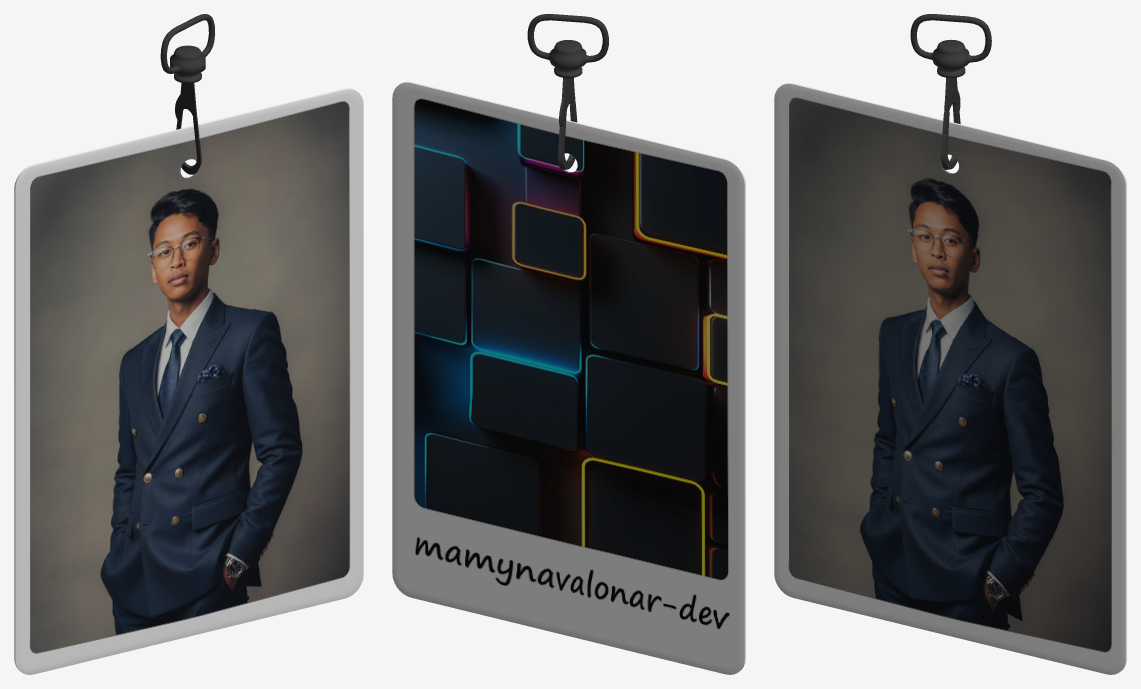
Rendered from kartu.glb.
3 renders of one model, left to right at view 1: azimuth 30°, elevation 25°; view 2: azimuth 150°, elevation 25°; view 3: azimuth 330°, elevation 25°, orthographic.
Parts seen in each view (by area): view 1: card, clip, clamp; view 2: card, clip, clamp; view 3: card, clip, clamp.
Part boxes in pixels (x1,y1,x2,y2): card: (14, 88, 363, 674); clip: (160, 14, 214, 83); clamp: (175, 83, 201, 174); card: (392, 82, 745, 674); clip: (527, 14, 608, 78); clamp: (557, 77, 577, 169); card: (774, 83, 1126, 674); clip: (910, 14, 991, 77); clamp: (940, 77, 960, 169).
Bounding box in the file's own units: 0.7164 × 1.21 × 0.0813.
Materials: 2 (1 with a texture image).
